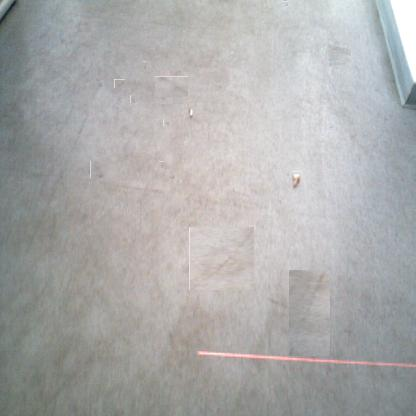dirty: (291, 171, 301, 188), (188, 106, 194, 118)
mark: (190, 226, 254, 291), (277, 281, 341, 345), (158, 73, 185, 101), (327, 44, 349, 66), (89, 161, 106, 178), (114, 79, 125, 88), (167, 169, 176, 179), (91, 67, 101, 76), (163, 118, 172, 127), (158, 161, 164, 172), (93, 80, 101, 88), (214, 84, 222, 90), (130, 95, 135, 103), (328, 124, 334, 130), (142, 61, 146, 70), (282, 1, 288, 6)
